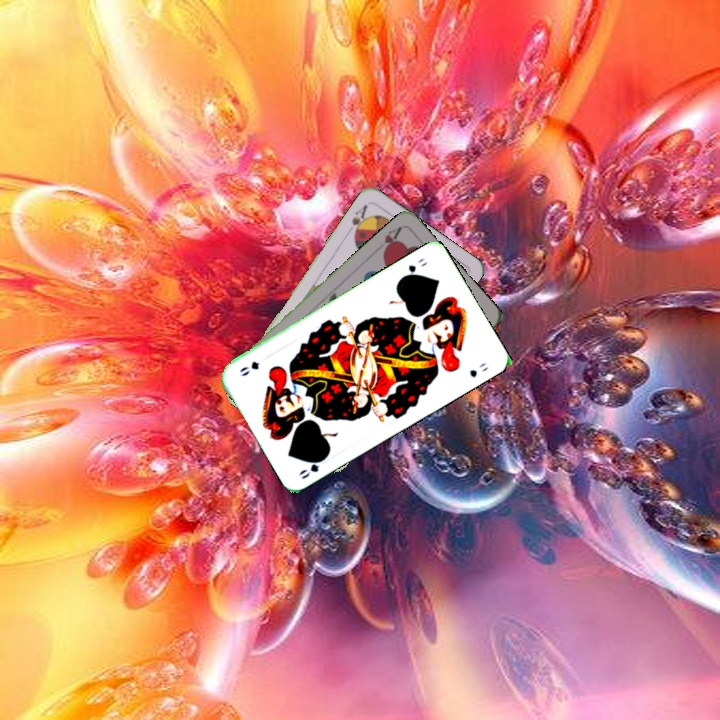GO: (294, 452, 332, 482), (397, 254, 430, 282)
HA: (372, 222, 405, 257)
SA: (348, 200, 371, 239)
